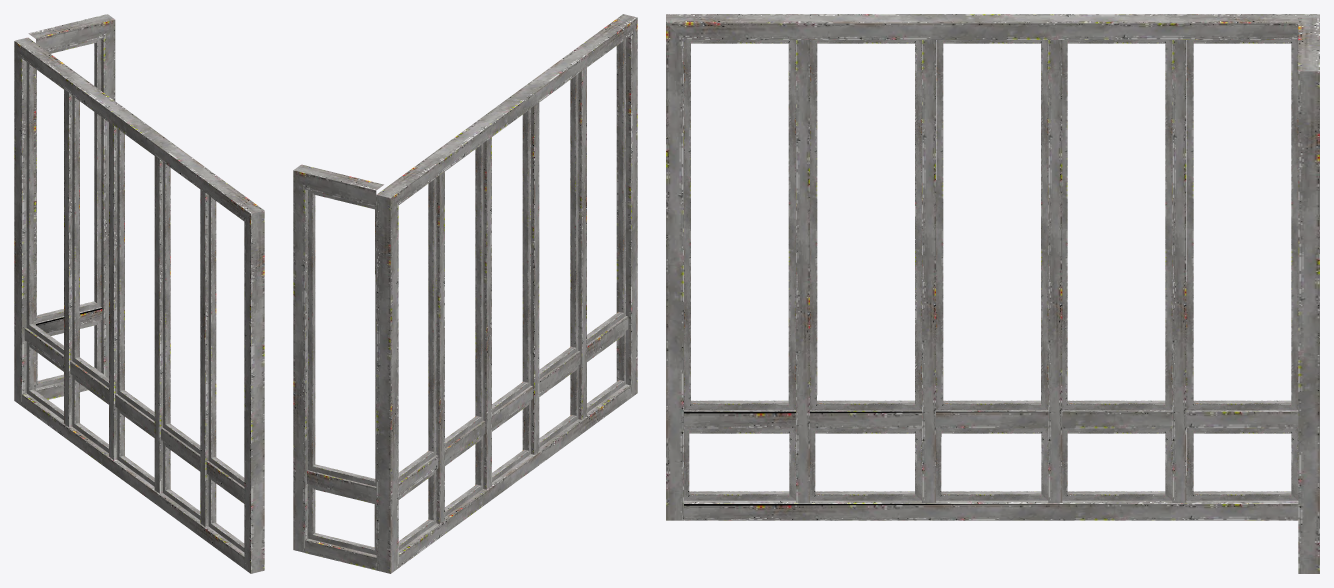
File: apartments_complex_b_corridor_a_partition_b.glb
The picture shows the model from 3 angles, left to right: view 1: azimuth 30°, elevation 25°; view 2: azimuth 150°, elevation 25°; view 3: azimuth 270°, elevation 25°; orthographic projection. The views are drawn at different scales.
Parts seen in each view (by area): view 1: apartments_complex_b_corridor_a_partition_b_LOD0; view 2: apartments_complex_b_corridor_a_partition_b_LOD0; view 3: apartments_complex_b_corridor_a_partition_b_LOD0.
Part boxes in pixels (x1,y1,x2,y2): apartments_complex_b_corridor_a_partition_b_LOD0: (14,14,264,573); apartments_complex_b_corridor_a_partition_b_LOD0: (293,14,637,573); apartments_complex_b_corridor_a_partition_b_LOD0: (666,14,1319,573).
Bounding box in the file's own units: 0.606 × 2.26 × 2.66.
Materials: 1 (1 with a texture image).
